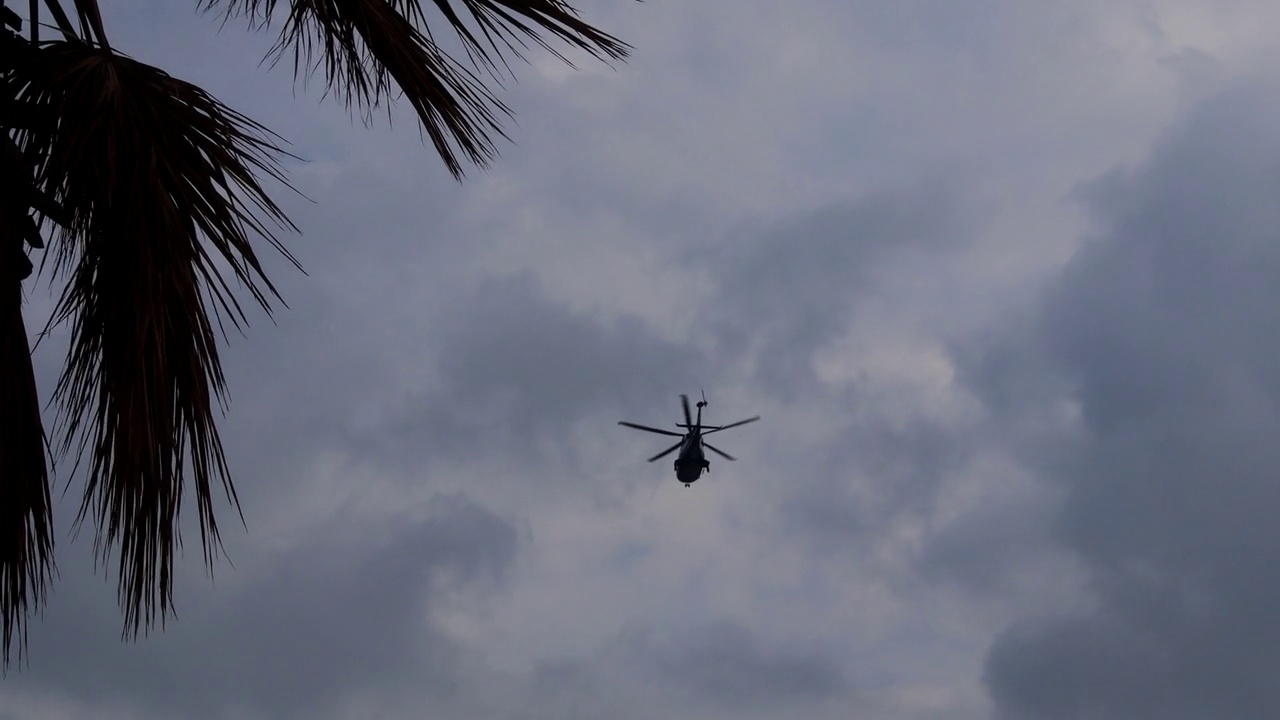heli: (618, 393, 759, 488)
